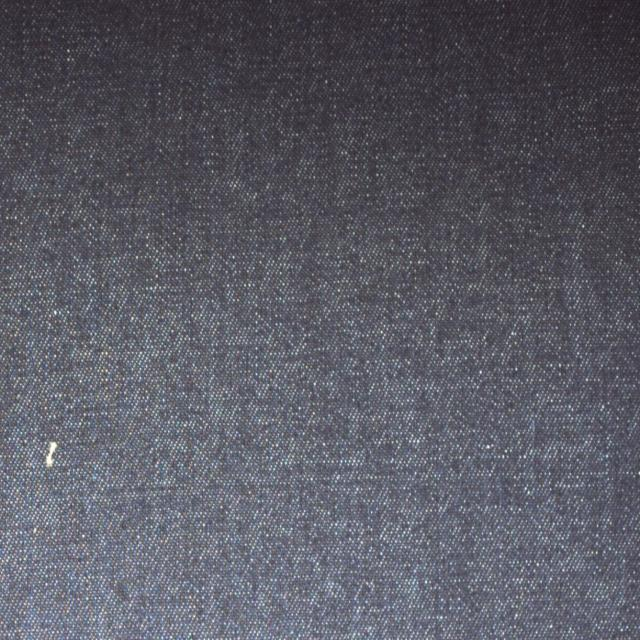Thread: (42, 438, 59, 467)
